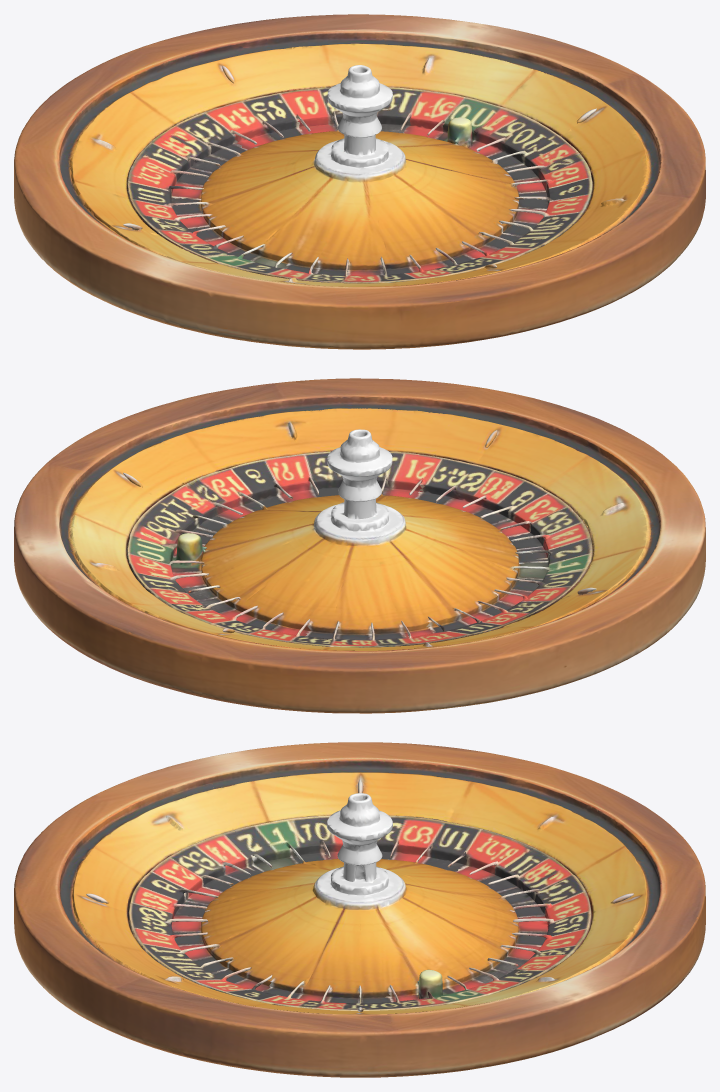
Rendered from ruleta.fbx.
The picture shows the model from 3 angles, top to bottom: view 1: azimuth 30°, elevation 25°; view 2: azimuth 150°, elevation 25°; view 3: azimuth 270°, elevation 25°; orthographic projection.
Parts seen in each view (by area): view 1: tripo_node_72baebb6; view 2: tripo_node_72baebb6; view 3: tripo_node_72baebb6.
Part boxes in pixels (<box>): tripo_node_72baebb6: <box>14,14,705,349</box>; tripo_node_72baebb6: <box>14,378,705,713</box>; tripo_node_72baebb6: <box>14,742,705,1077</box>.
Size of the model in its own units: 1 by 0.277 by 0.9999.
1 material, 1 textured.
